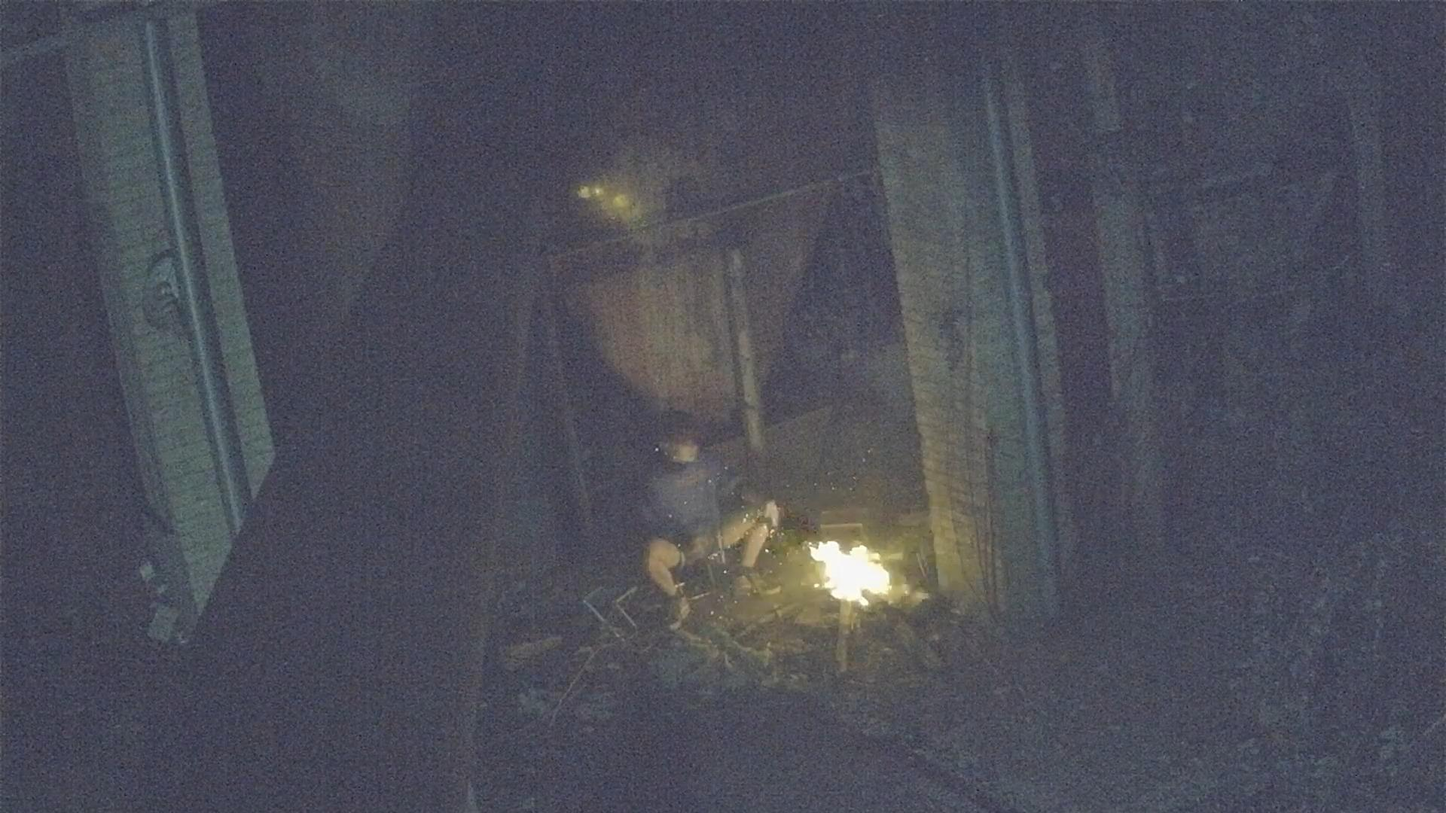fire: (810, 541, 889, 607)
